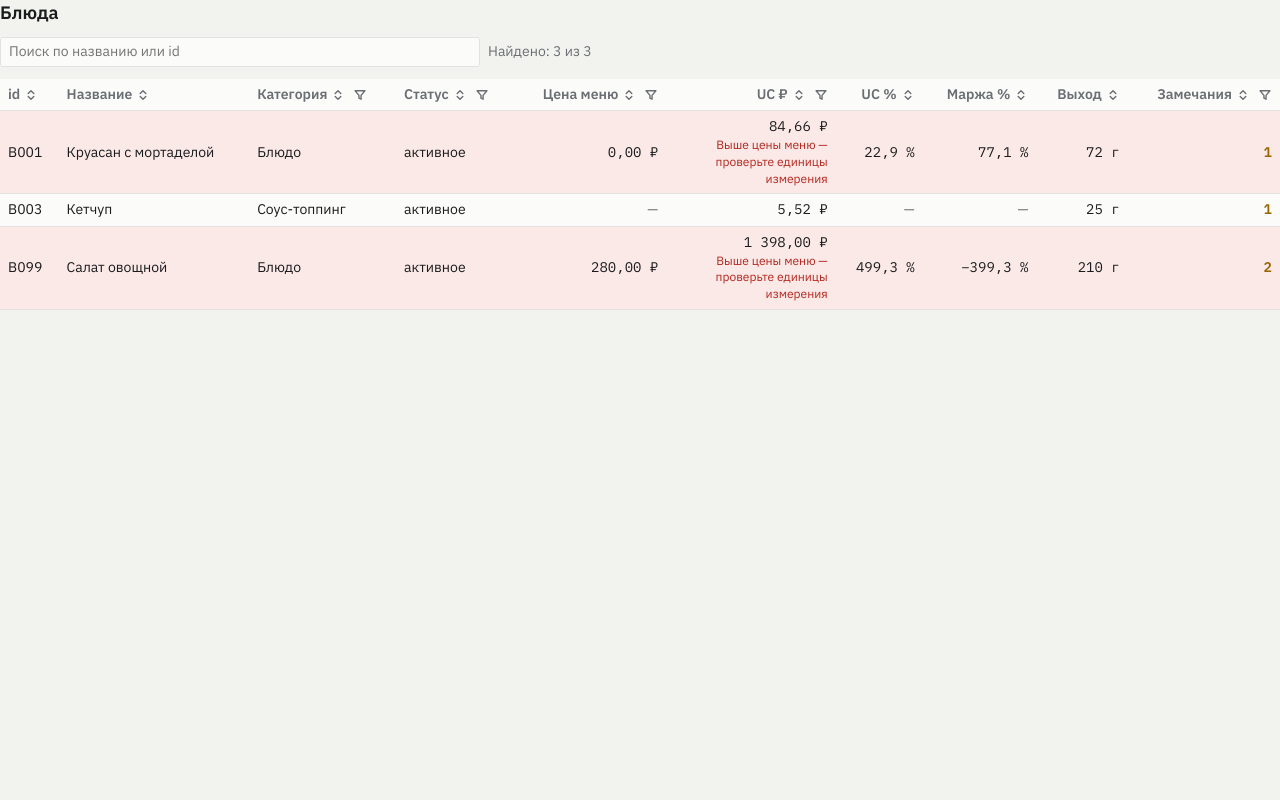
Test: «Цена меню: нет» — только блюдо без цены; цена «0.00» — «есть»
The image size is (1280, 800).
Click the button named "Фильтр: Цена меню". click: (651, 95)
box: [640, 84, 662, 106]
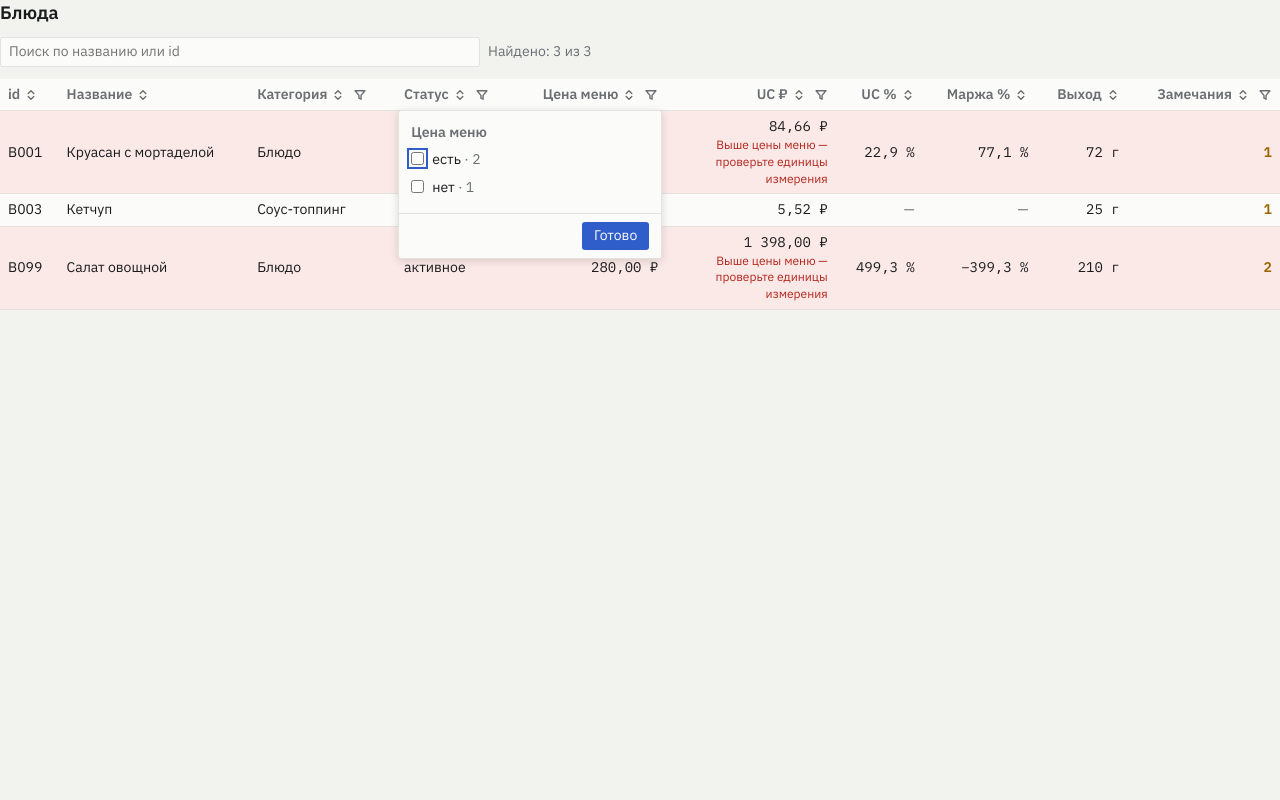
Check: the checkbox labelled "есть · 2" is shown, box [411, 152, 424, 165]
Click the checkbox labelled "нет · 1". click: (418, 186)
box: [411, 180, 424, 193]
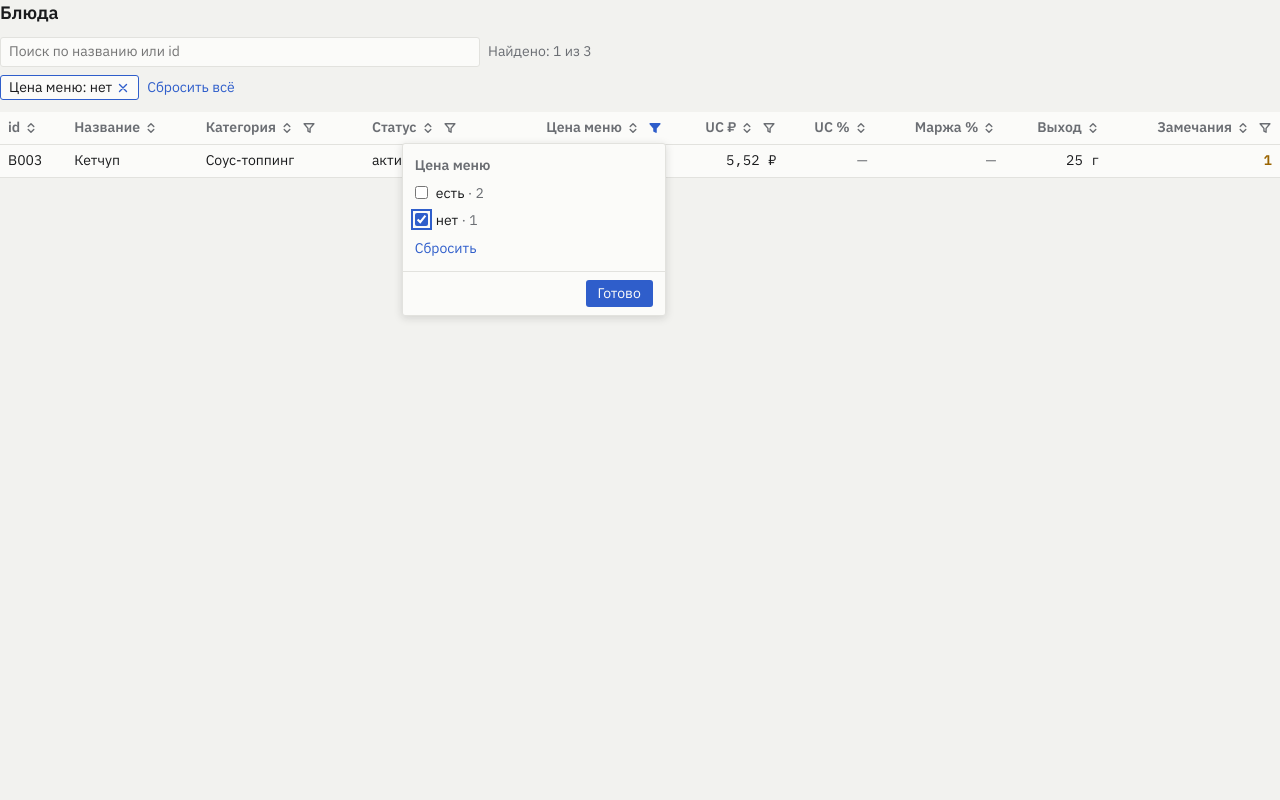
Check: the button with aria-label "Снять фильтр «Цена меню: нет»" is shown, box [0, 75, 139, 100]
